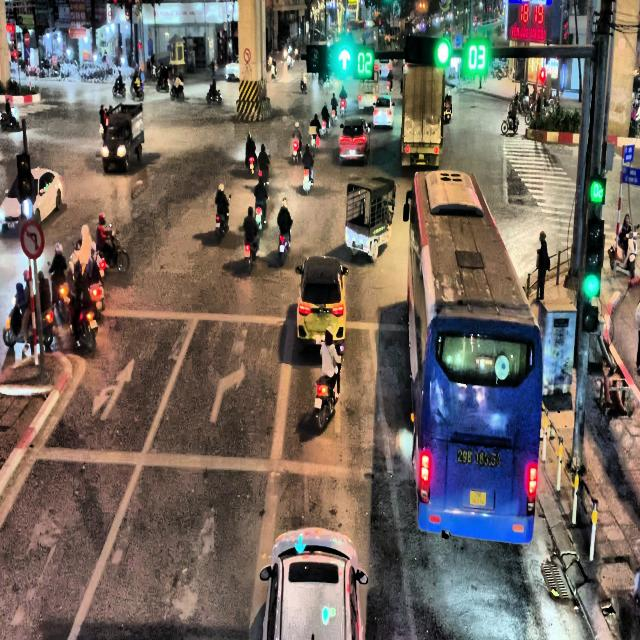BUS: (403, 168, 542, 544)
CAR: (259, 527, 368, 639), (295, 256, 349, 354), (0, 167, 63, 234), (338, 116, 371, 165), (372, 93, 395, 129), (225, 59, 239, 81)
MOTORBIKE: (2, 293, 54, 351), (314, 346, 344, 430), (66, 286, 97, 352), (100, 224, 130, 274), (48, 263, 69, 322), (215, 195, 231, 242), (244, 232, 259, 274), (0, 106, 19, 131), (501, 112, 519, 134), (255, 198, 267, 230), (302, 165, 313, 194), (130, 78, 144, 99), (206, 88, 222, 104), (292, 138, 302, 162), (170, 82, 184, 99), (156, 74, 169, 92), (112, 80, 126, 96), (444, 94, 452, 122), (248, 154, 255, 174), (300, 75, 307, 93), (321, 118, 328, 136), (340, 98, 346, 116), (332, 106, 338, 122)
